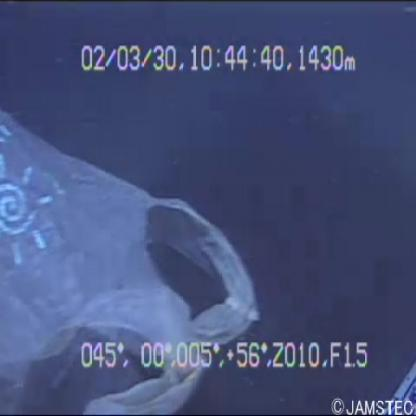Rác: (1, 61, 269, 408)
